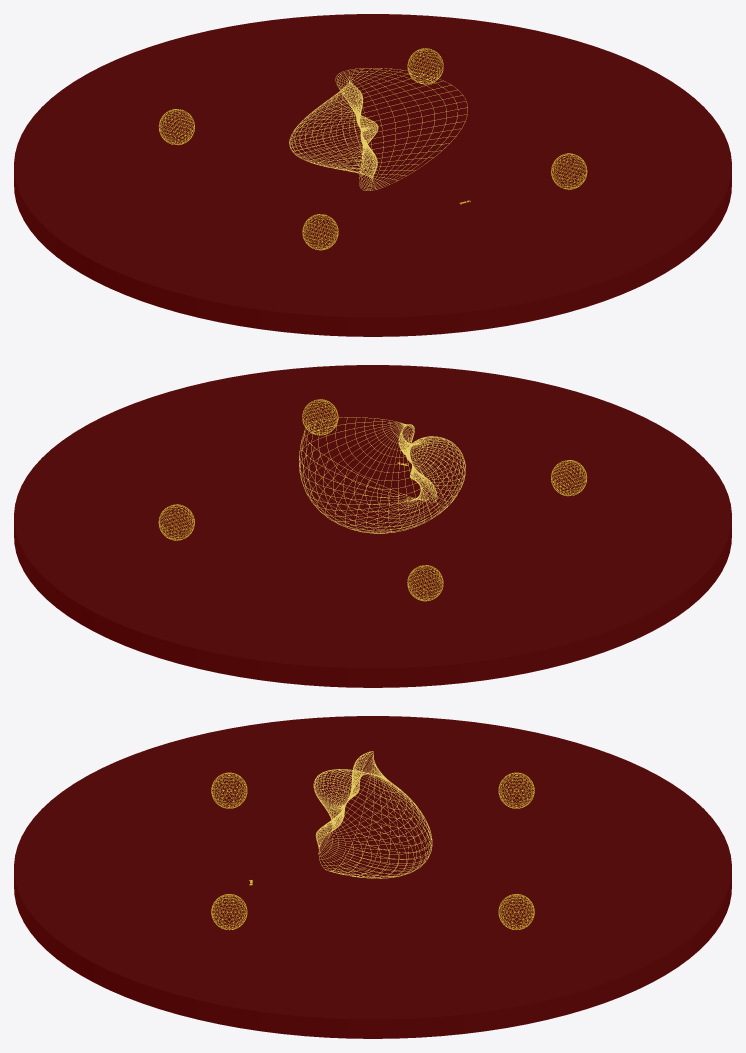
File: gsh.glb
3 views of the same model, one above another, from view 1: azimuth 30°, elevation 25°; view 2: azimuth 150°, elevation 25°; view 3: azimuth 270°, elevation 25° (orthographic).
Size of the model in its own units: 0.9999 by 0.1857 by 1.
